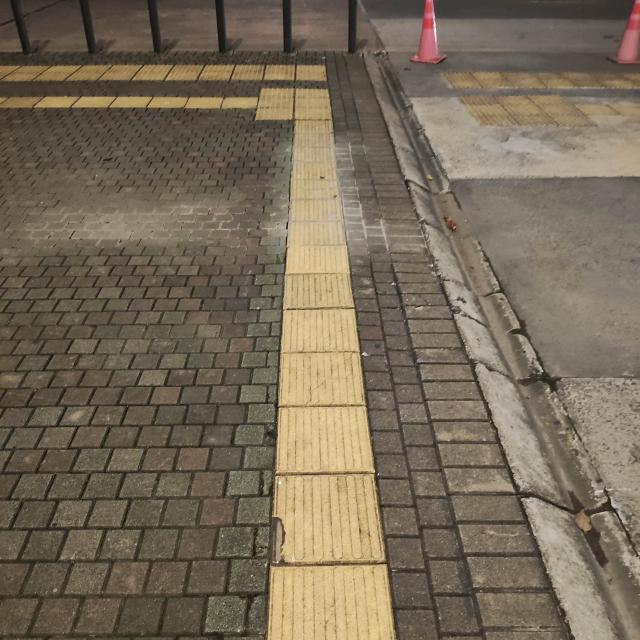kiri: (208, 85, 350, 141)
